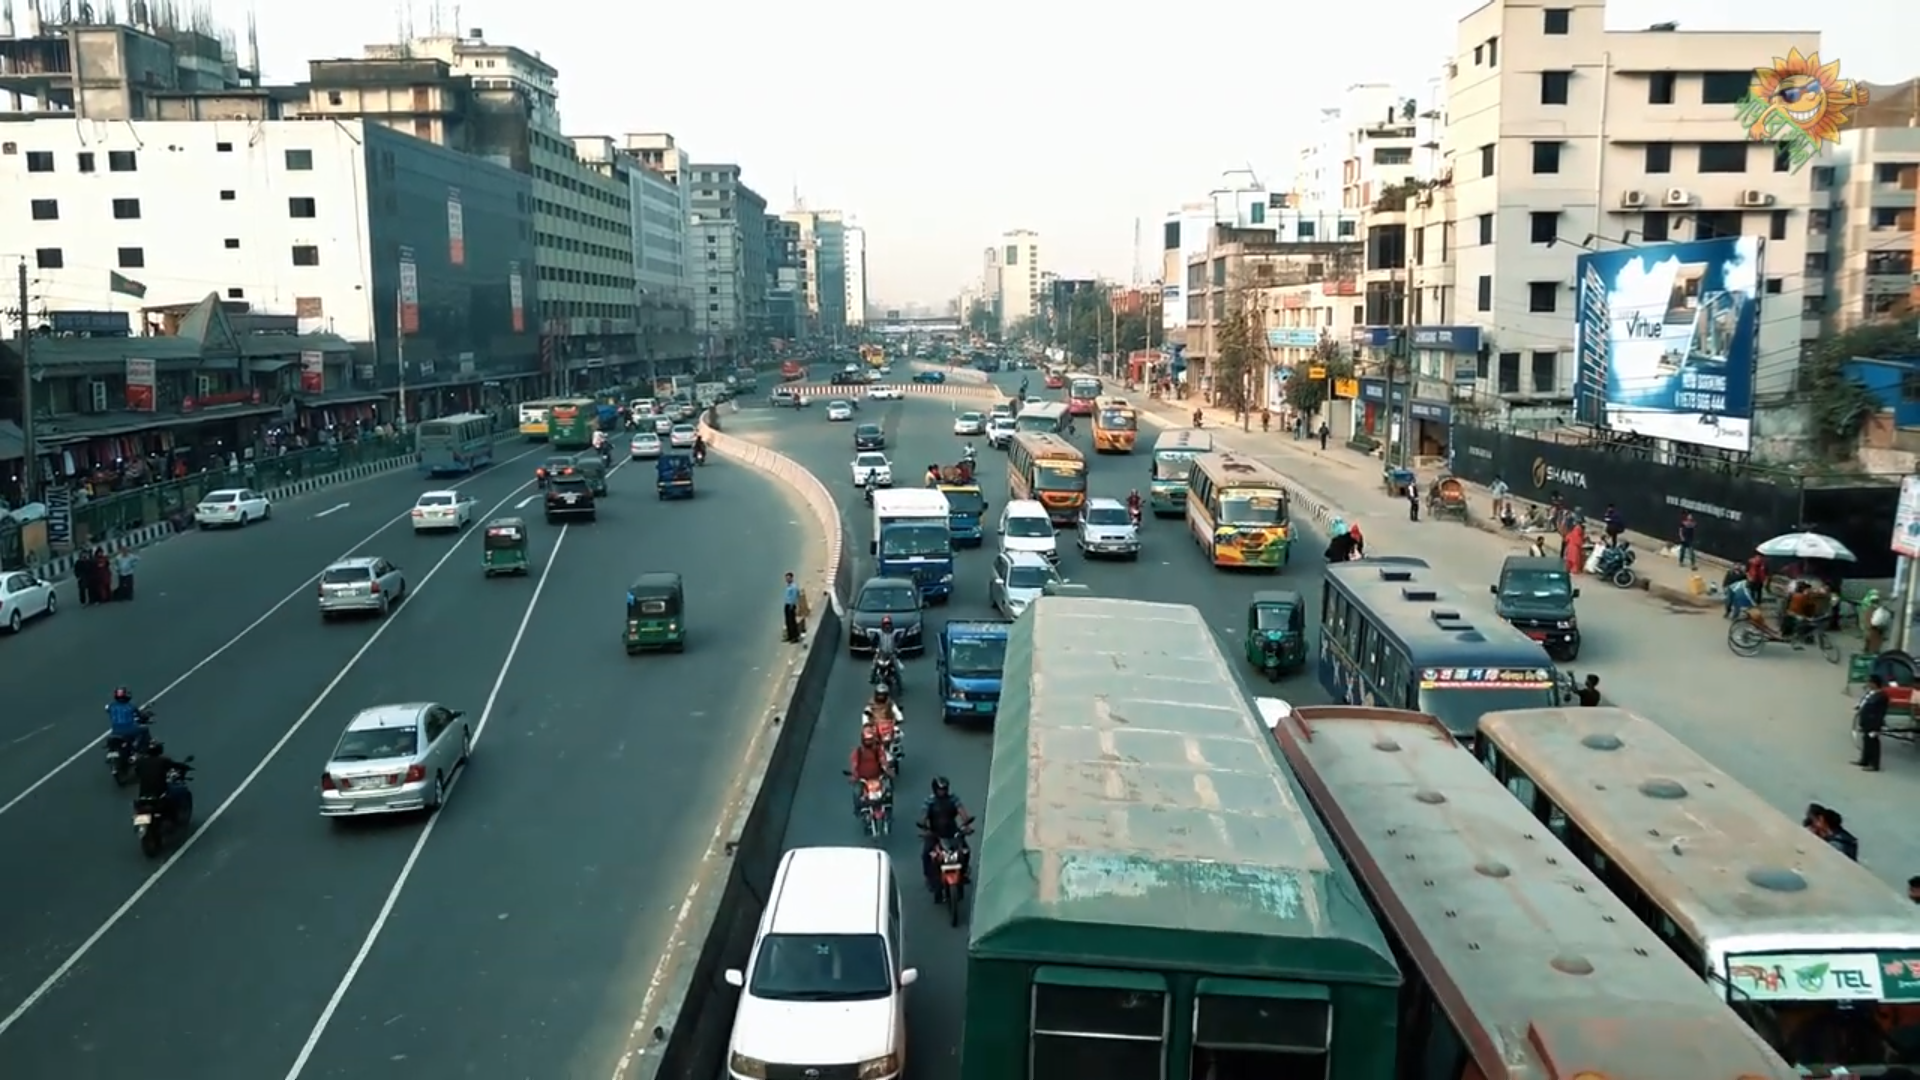HeavyVehicle: (972, 593, 1398, 1080), (1316, 558, 1564, 736), (1183, 454, 1298, 585), (1004, 429, 1097, 497), (410, 411, 497, 483), (1089, 396, 1145, 458)
LightVehicle: (313, 699, 473, 832), (615, 567, 695, 659), (309, 556, 415, 624), (476, 516, 533, 582), (651, 454, 702, 502)
MotorCycle: (918, 775, 972, 938), (140, 756, 207, 872), (104, 684, 157, 782), (849, 732, 894, 847), (1131, 480, 1143, 533)
